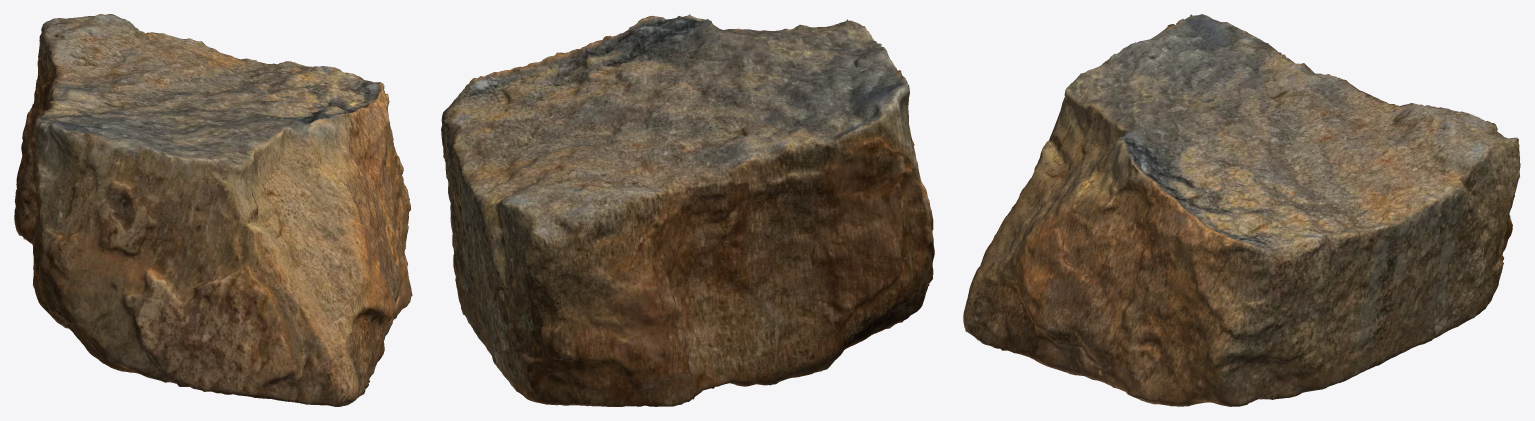
Rendered from namaqualand_boulder_03.glb.
3 views of the same model, side by side, from view 1: azimuth 30°, elevation 25°; view 2: azimuth 150°, elevation 25°; view 3: azimuth 270°, elevation 25° (orthographic). The views are drawn at different scales.
Visible parts, largest first — view 1: boulder_03_LOD0; view 2: boulder_03_LOD0; view 3: boulder_03_LOD0.
Boxes of the visible parts, left/top/right/bottom form: boulder_03_LOD0: left=14, top=14, right=412, bottom=406; boulder_03_LOD0: left=441, top=14, right=934, bottom=406; boulder_03_LOD0: left=963, top=14, right=1520, bottom=406.
Bounding box in the file's own units: 2.41 × 1.47 × 3.07.
Materials: 1 (1 with a texture image).
